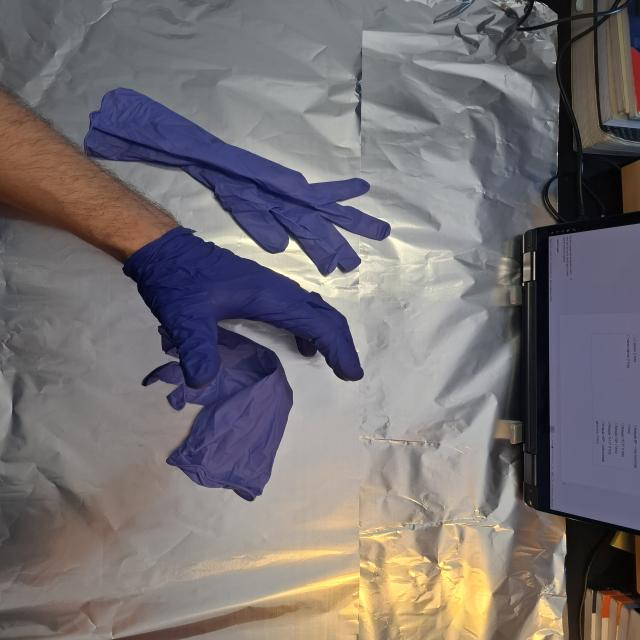glove_on: (124, 228, 370, 391)
